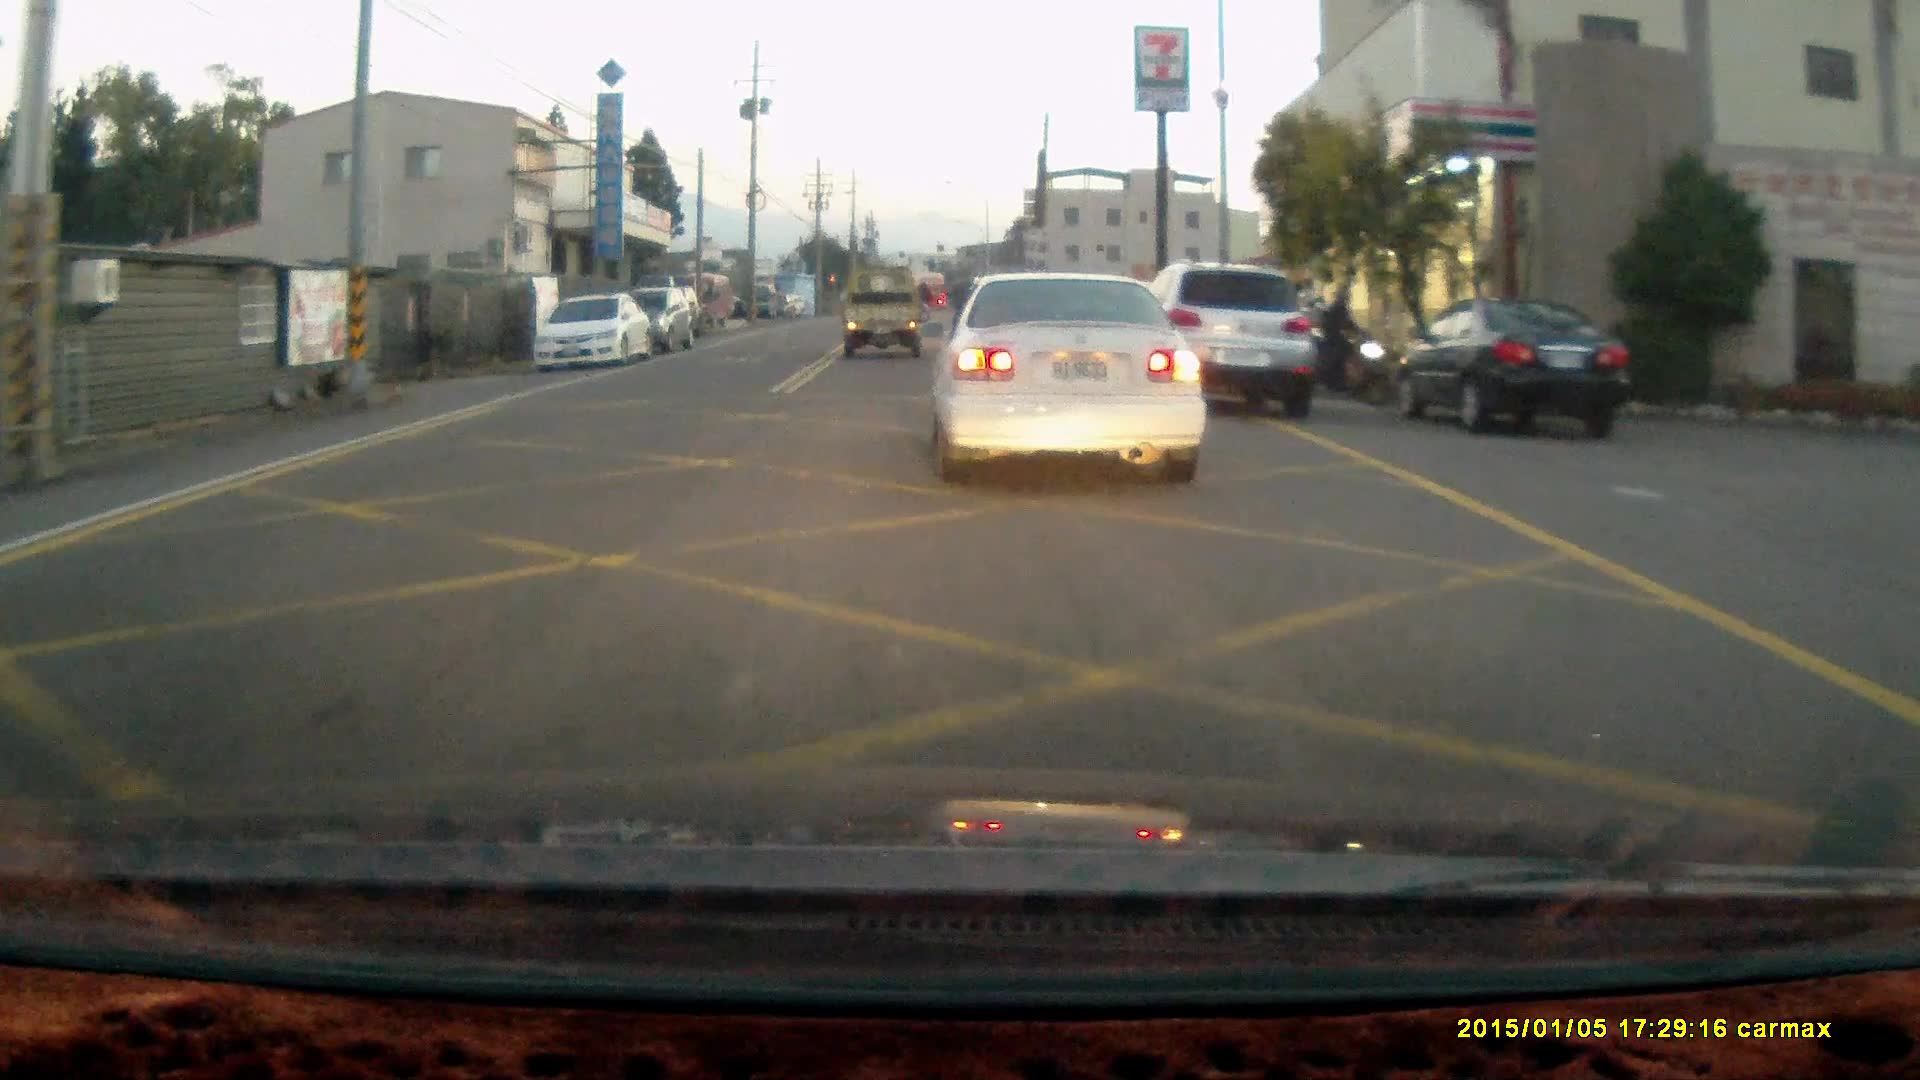rider: (1304, 286, 1394, 405)
vehicle: (948, 274, 1217, 479), (1397, 303, 1624, 436), (1152, 262, 1331, 422), (529, 290, 656, 376), (844, 264, 931, 356), (627, 287, 703, 354)
